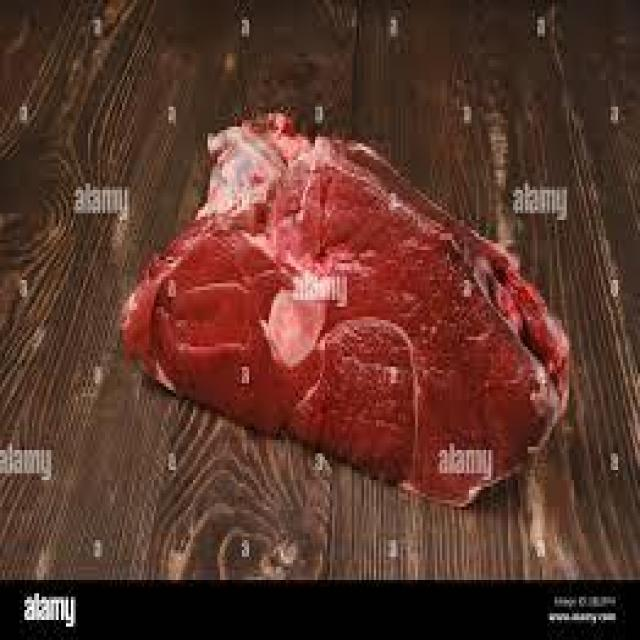beef: (359, 174, 512, 444)
